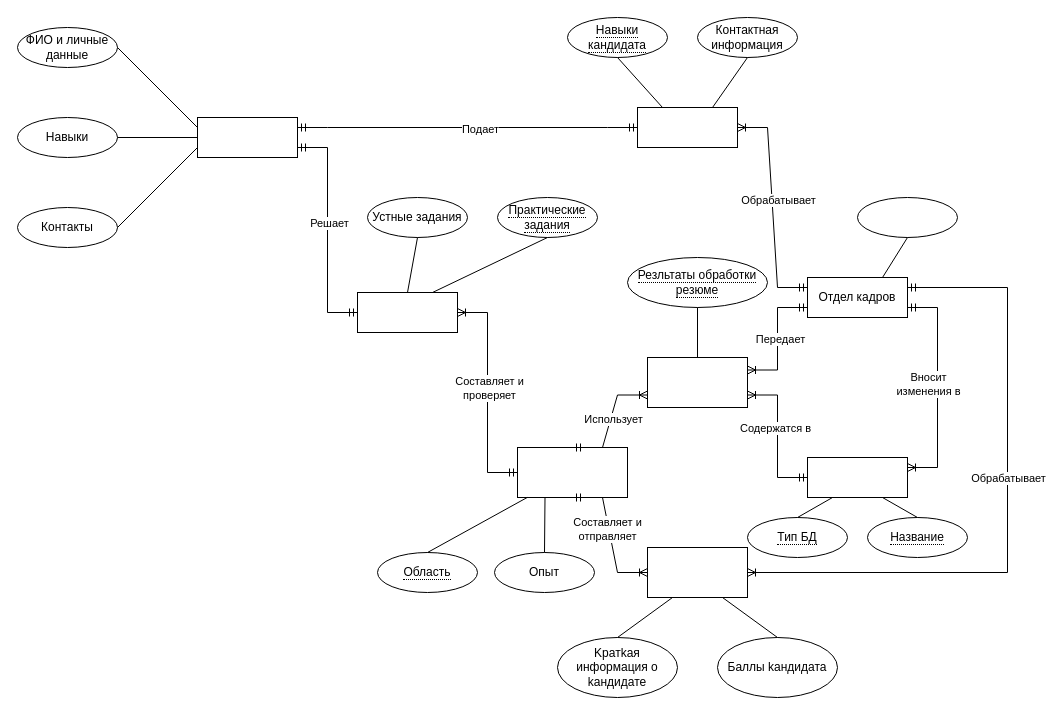
Some shapes in this 1063 by 715 pixel diagram are drawn without their labels. Each missing label, with the centre of its shape:
База данных: (x=857, y=477)
Данные о кандидате для собеседования: (x=697, y=382)
Данные о прохождении собеседования: (x=697, y=572)
Задания собеседования: (x=407, y=312)
Кандидат: (x=247, y=137)
Работниkи: (x=907, y=217)
Резюме: (x=687, y=127)
Специалист в рассматриваемой области: (x=572, y=472)
